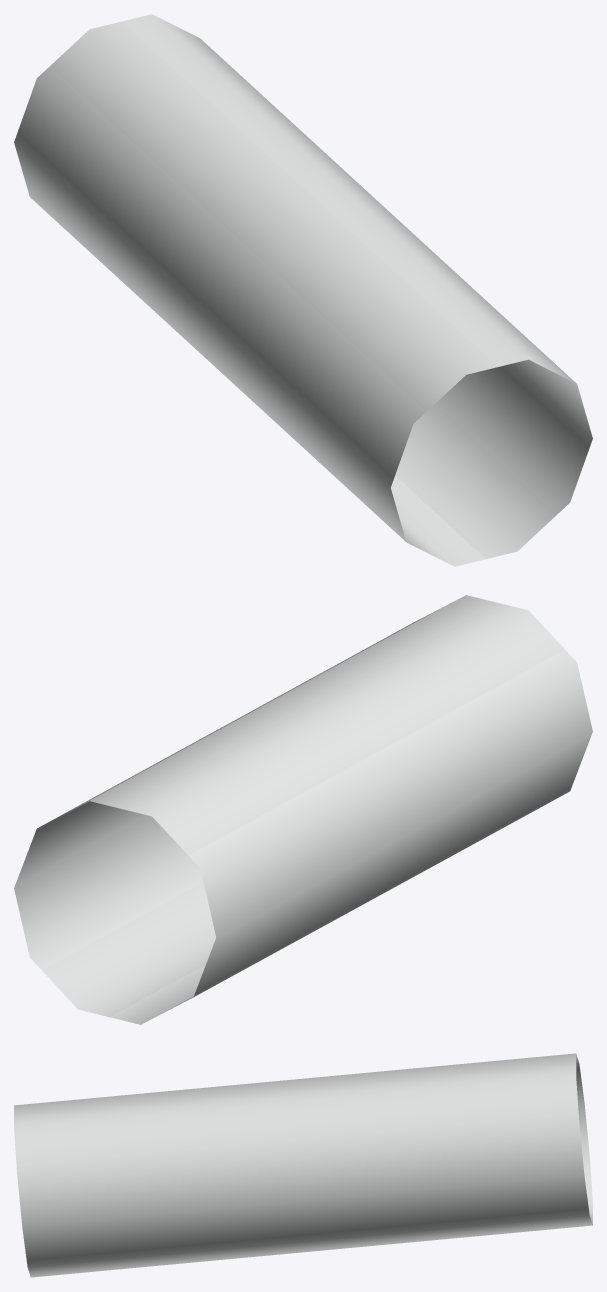
File: trusssignalarm_level12_c12.obj
The picture shows the model from 3 angles, top to bottom: view 1: azimuth 30°, elevation 25°; view 2: azimuth 150°, elevation 25°; view 3: azimuth 270°, elevation 25°; orthographic projection. The views are drawn at different scales.
Parts seen in each view (by area): view 1: trusssignalarm_level12_c12; view 2: trusssignalarm_level12_c12; view 3: trusssignalarm_level12_c12.
Part boxes in pixels (left/top/right/bottom): trusssignalarm_level12_c12: left=14, top=14, right=592, bottom=566; trusssignalarm_level12_c12: left=14, top=595, right=592, bottom=1024; trusssignalarm_level12_c12: left=14, top=1053, right=592, bottom=1277.
Bounding box in the file's own units: 0.2625 × 0.3348 × 0.8723.
